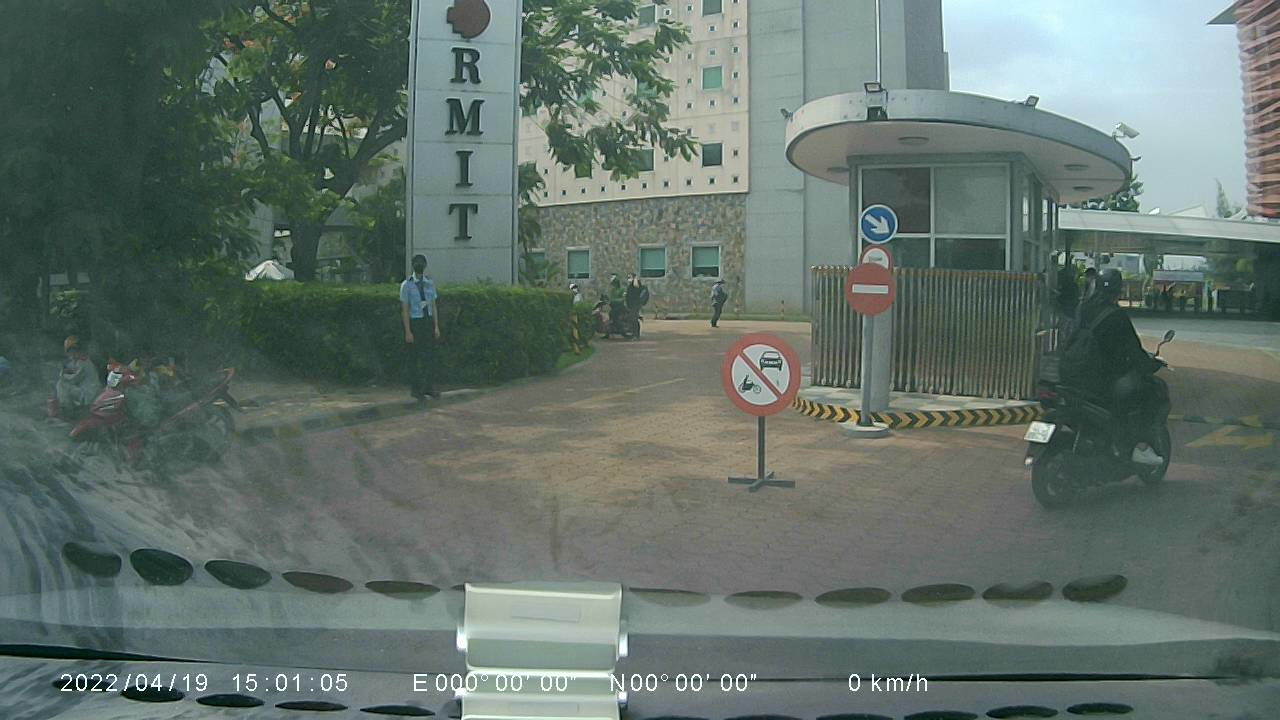Bien khac: (718, 327, 800, 419)
Cam di nguoc chieu: (844, 261, 897, 314)
Huong di phai re phai: (856, 203, 900, 244)
